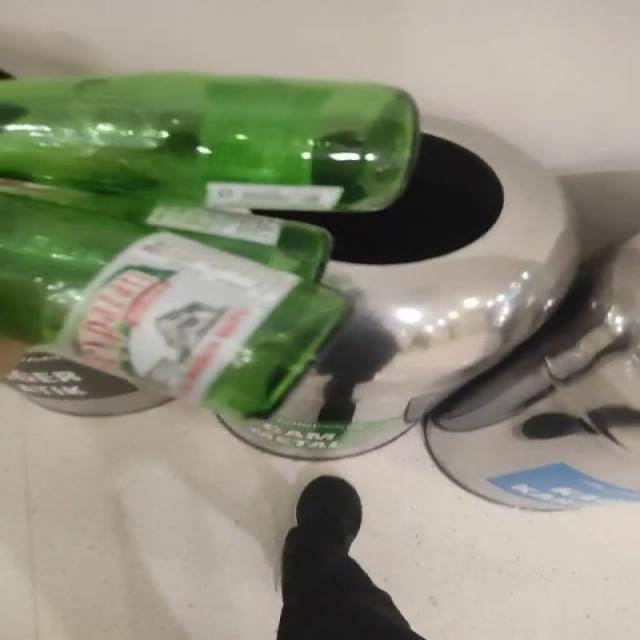glass: (3, 72, 419, 415)
